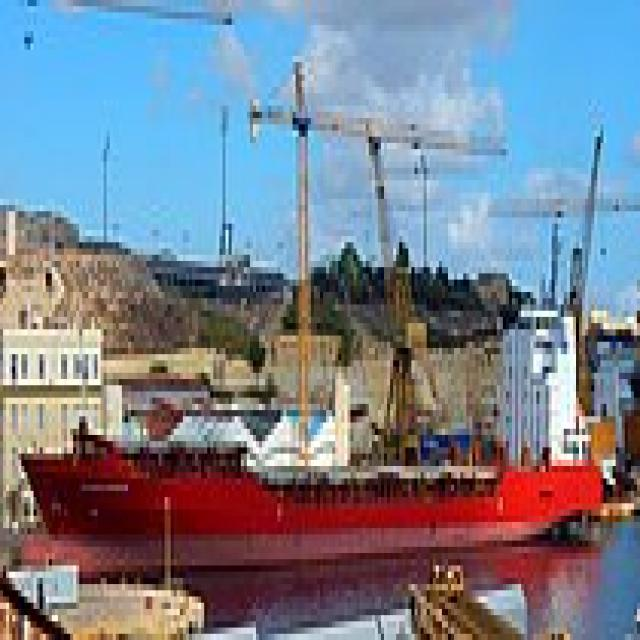Cargo: (9, 267, 616, 578)
